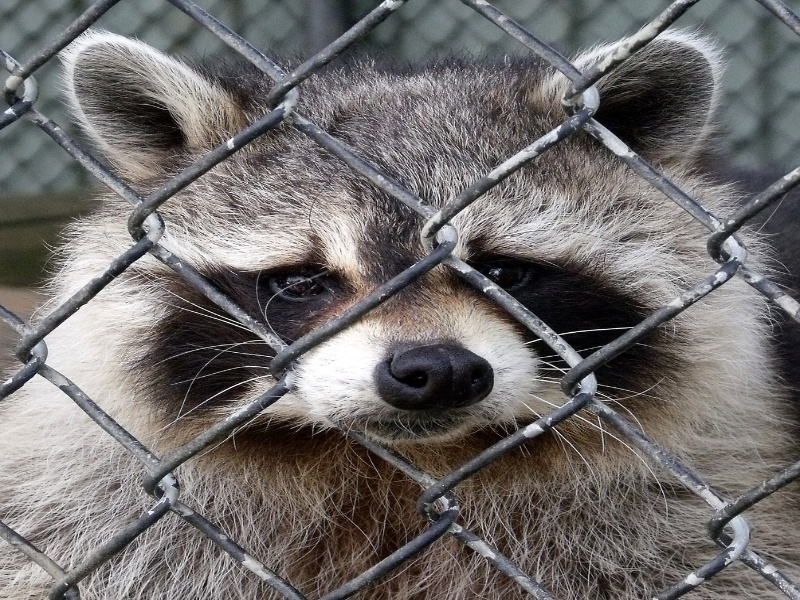raccoon: (38, 16, 791, 512)
